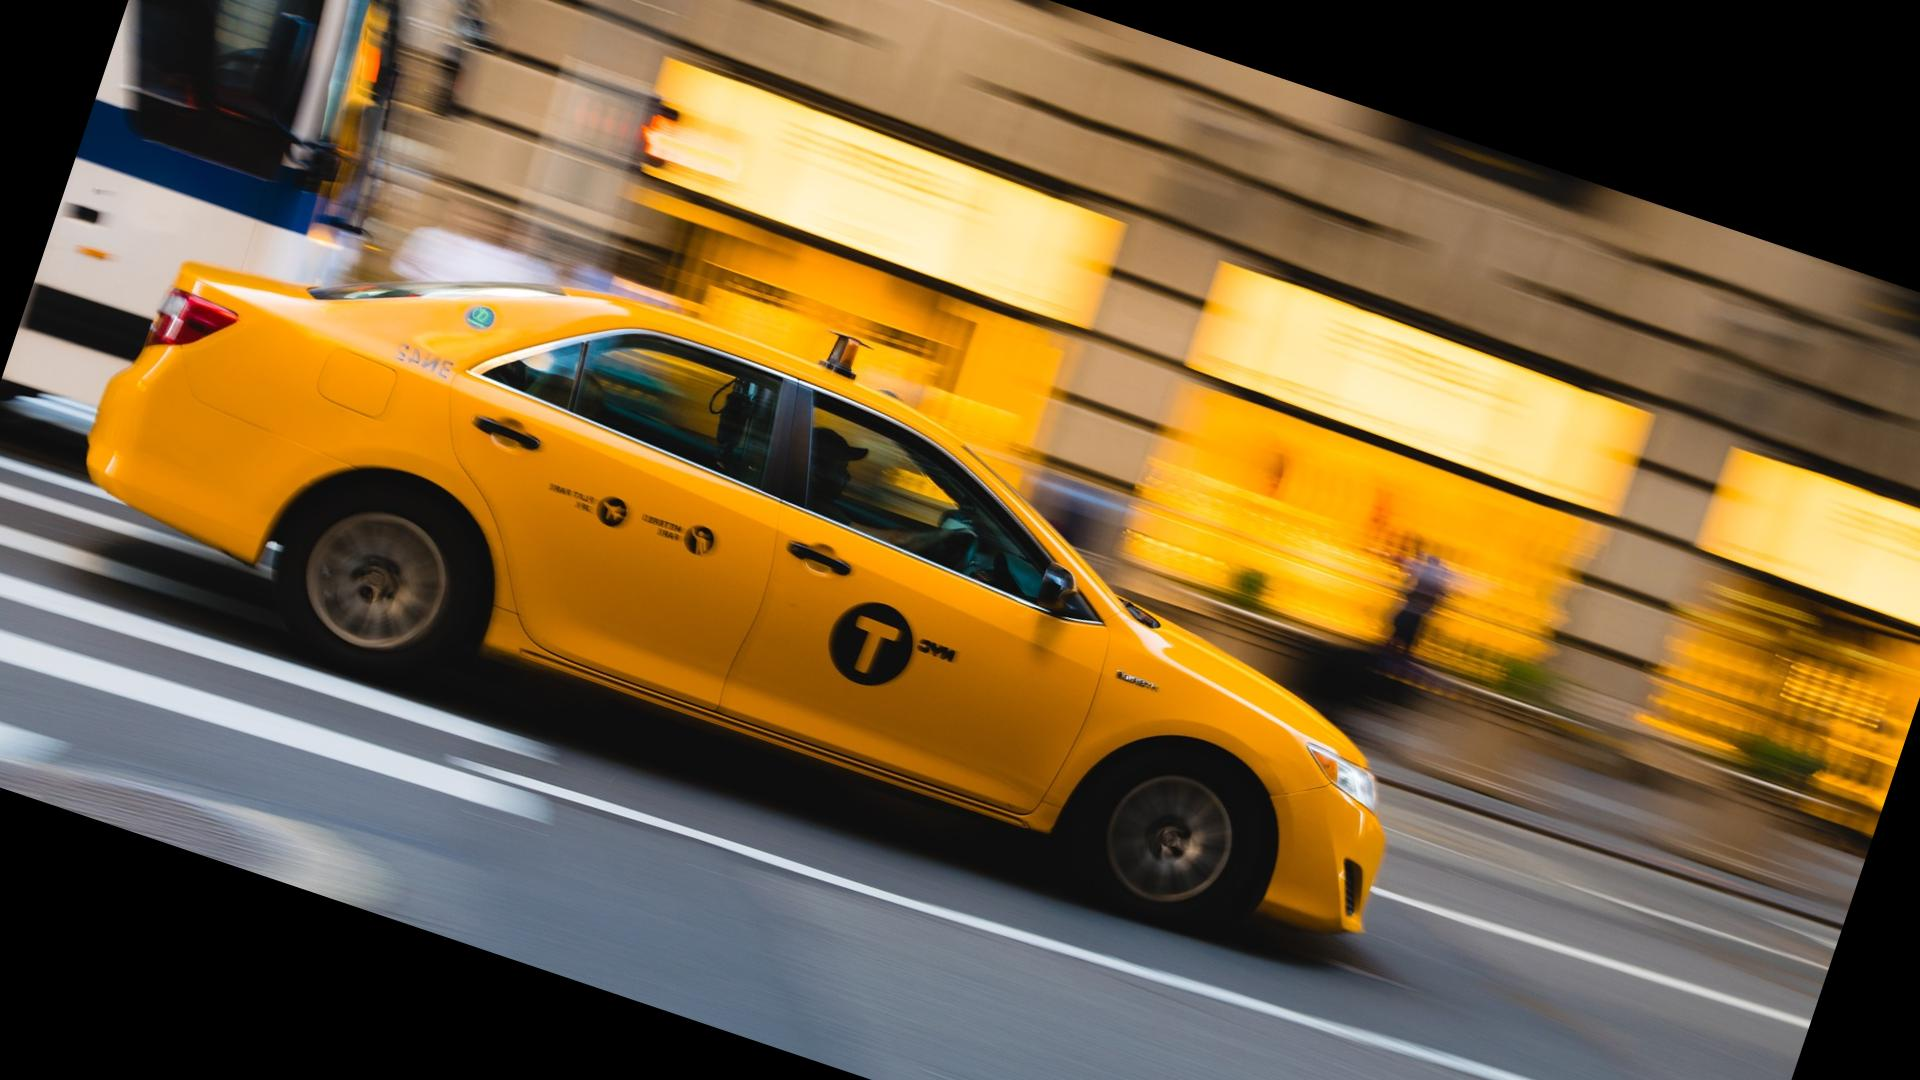taxi: (76, 200, 1389, 963)
